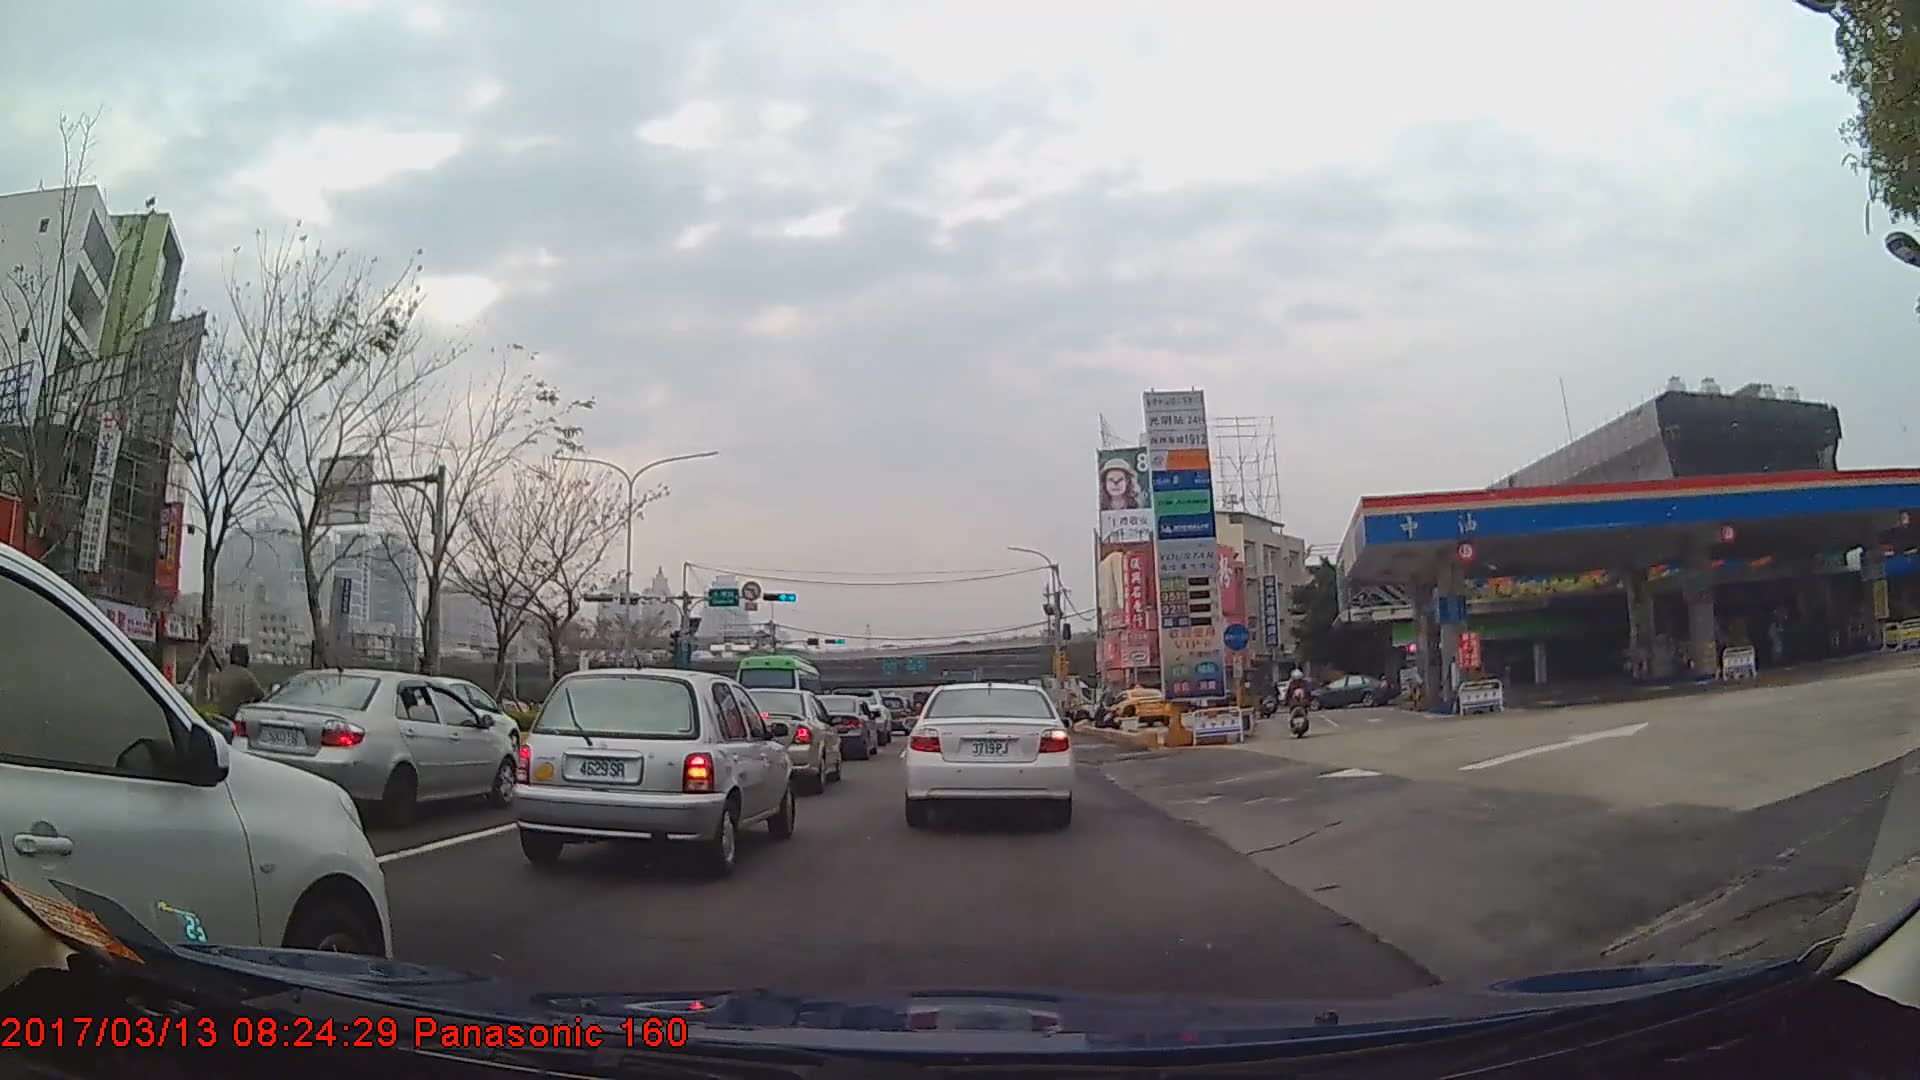rider: (206, 640, 277, 777), (1286, 669, 1310, 736)
vehicle: (0, 538, 388, 1009), (509, 666, 795, 878), (229, 668, 516, 820), (904, 678, 1074, 828), (712, 685, 843, 798), (730, 651, 824, 726), (798, 692, 879, 758), (1010, 681, 1097, 731), (1300, 670, 1396, 708), (1111, 685, 1169, 725)
